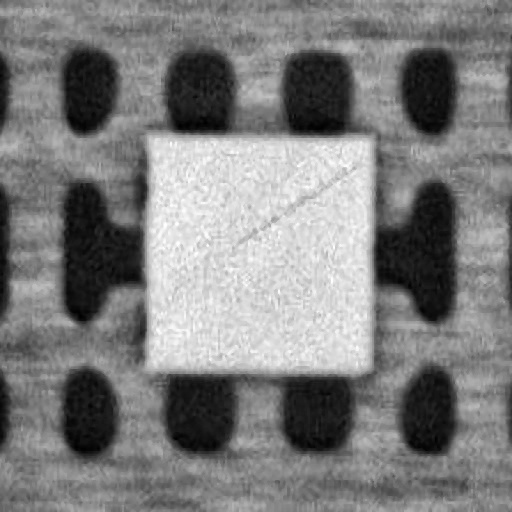DIE_CRACK: (345, 108, 512, 163)
